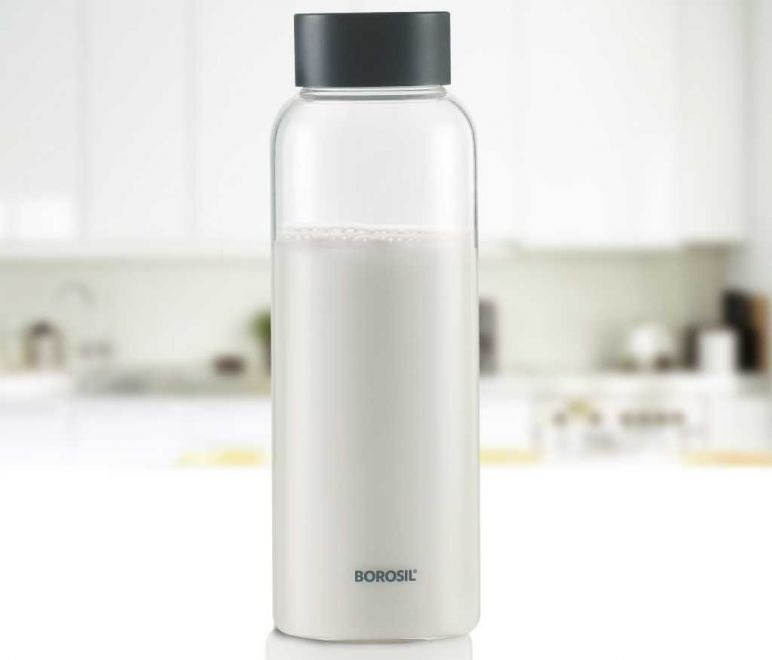container: (271, 8, 494, 656)
